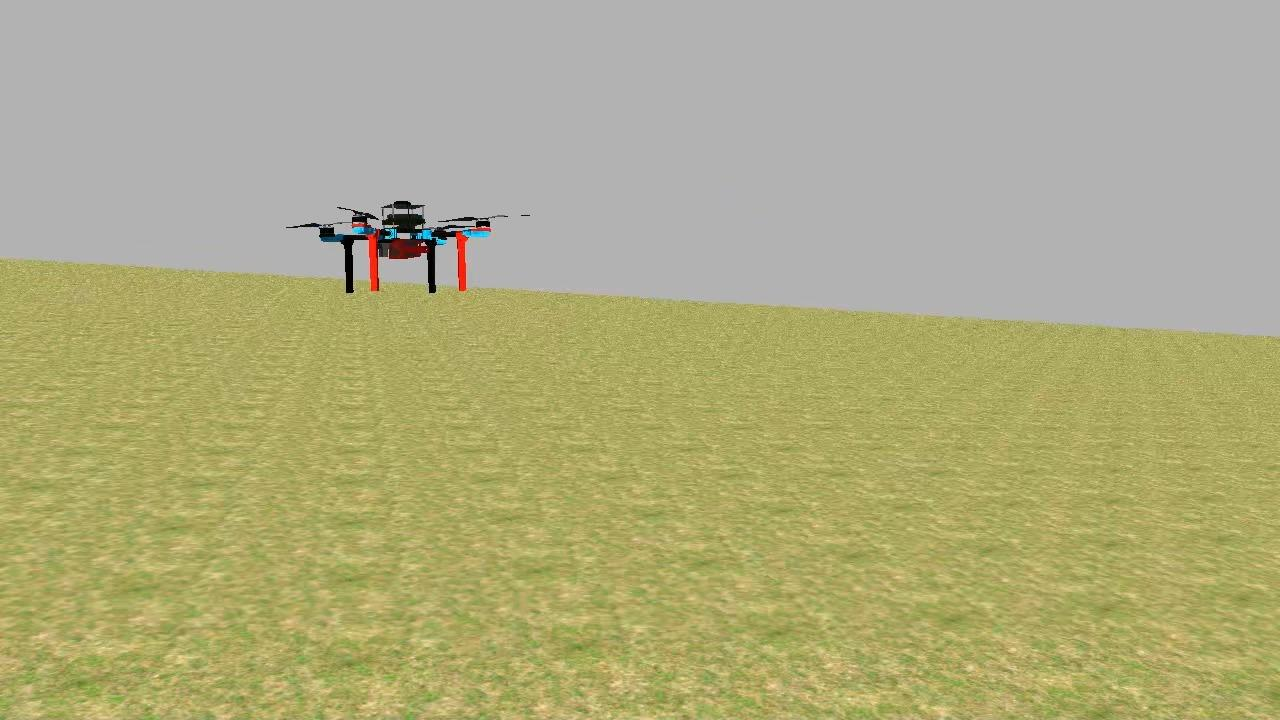UAV: (309, 192, 494, 304)
